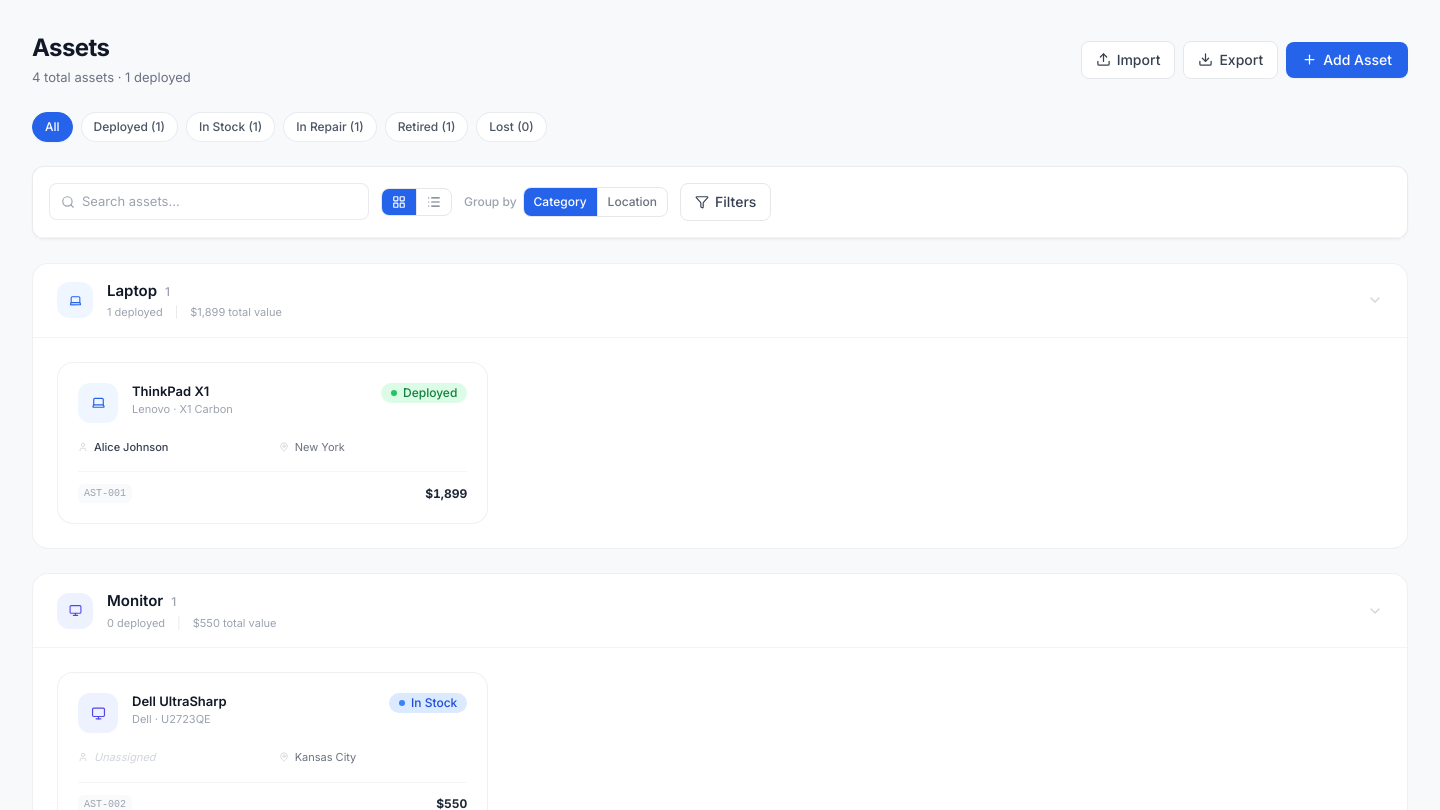
Test: AssetList page › renders assets table with correct data › displays correct column headers when in list view
Click the button titled "List view" at [434, 202], box [416,188,451,214]
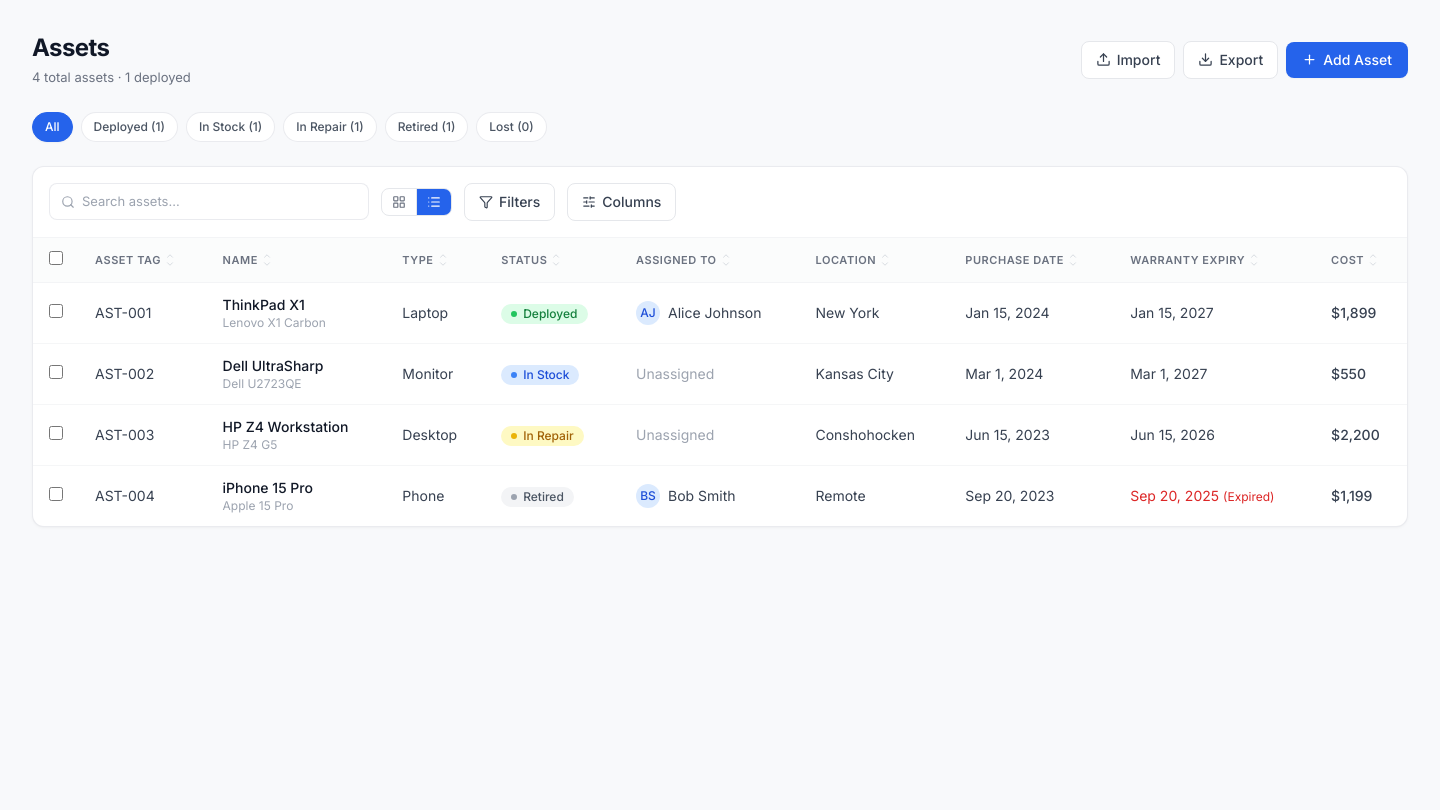
Expected: the text "Asset Tag" is shown, [95,250,175,268]
Expected: the text "Name" is shown, [223,250,272,268]
Expected: the text "Type" is shown, [402,250,448,268]
